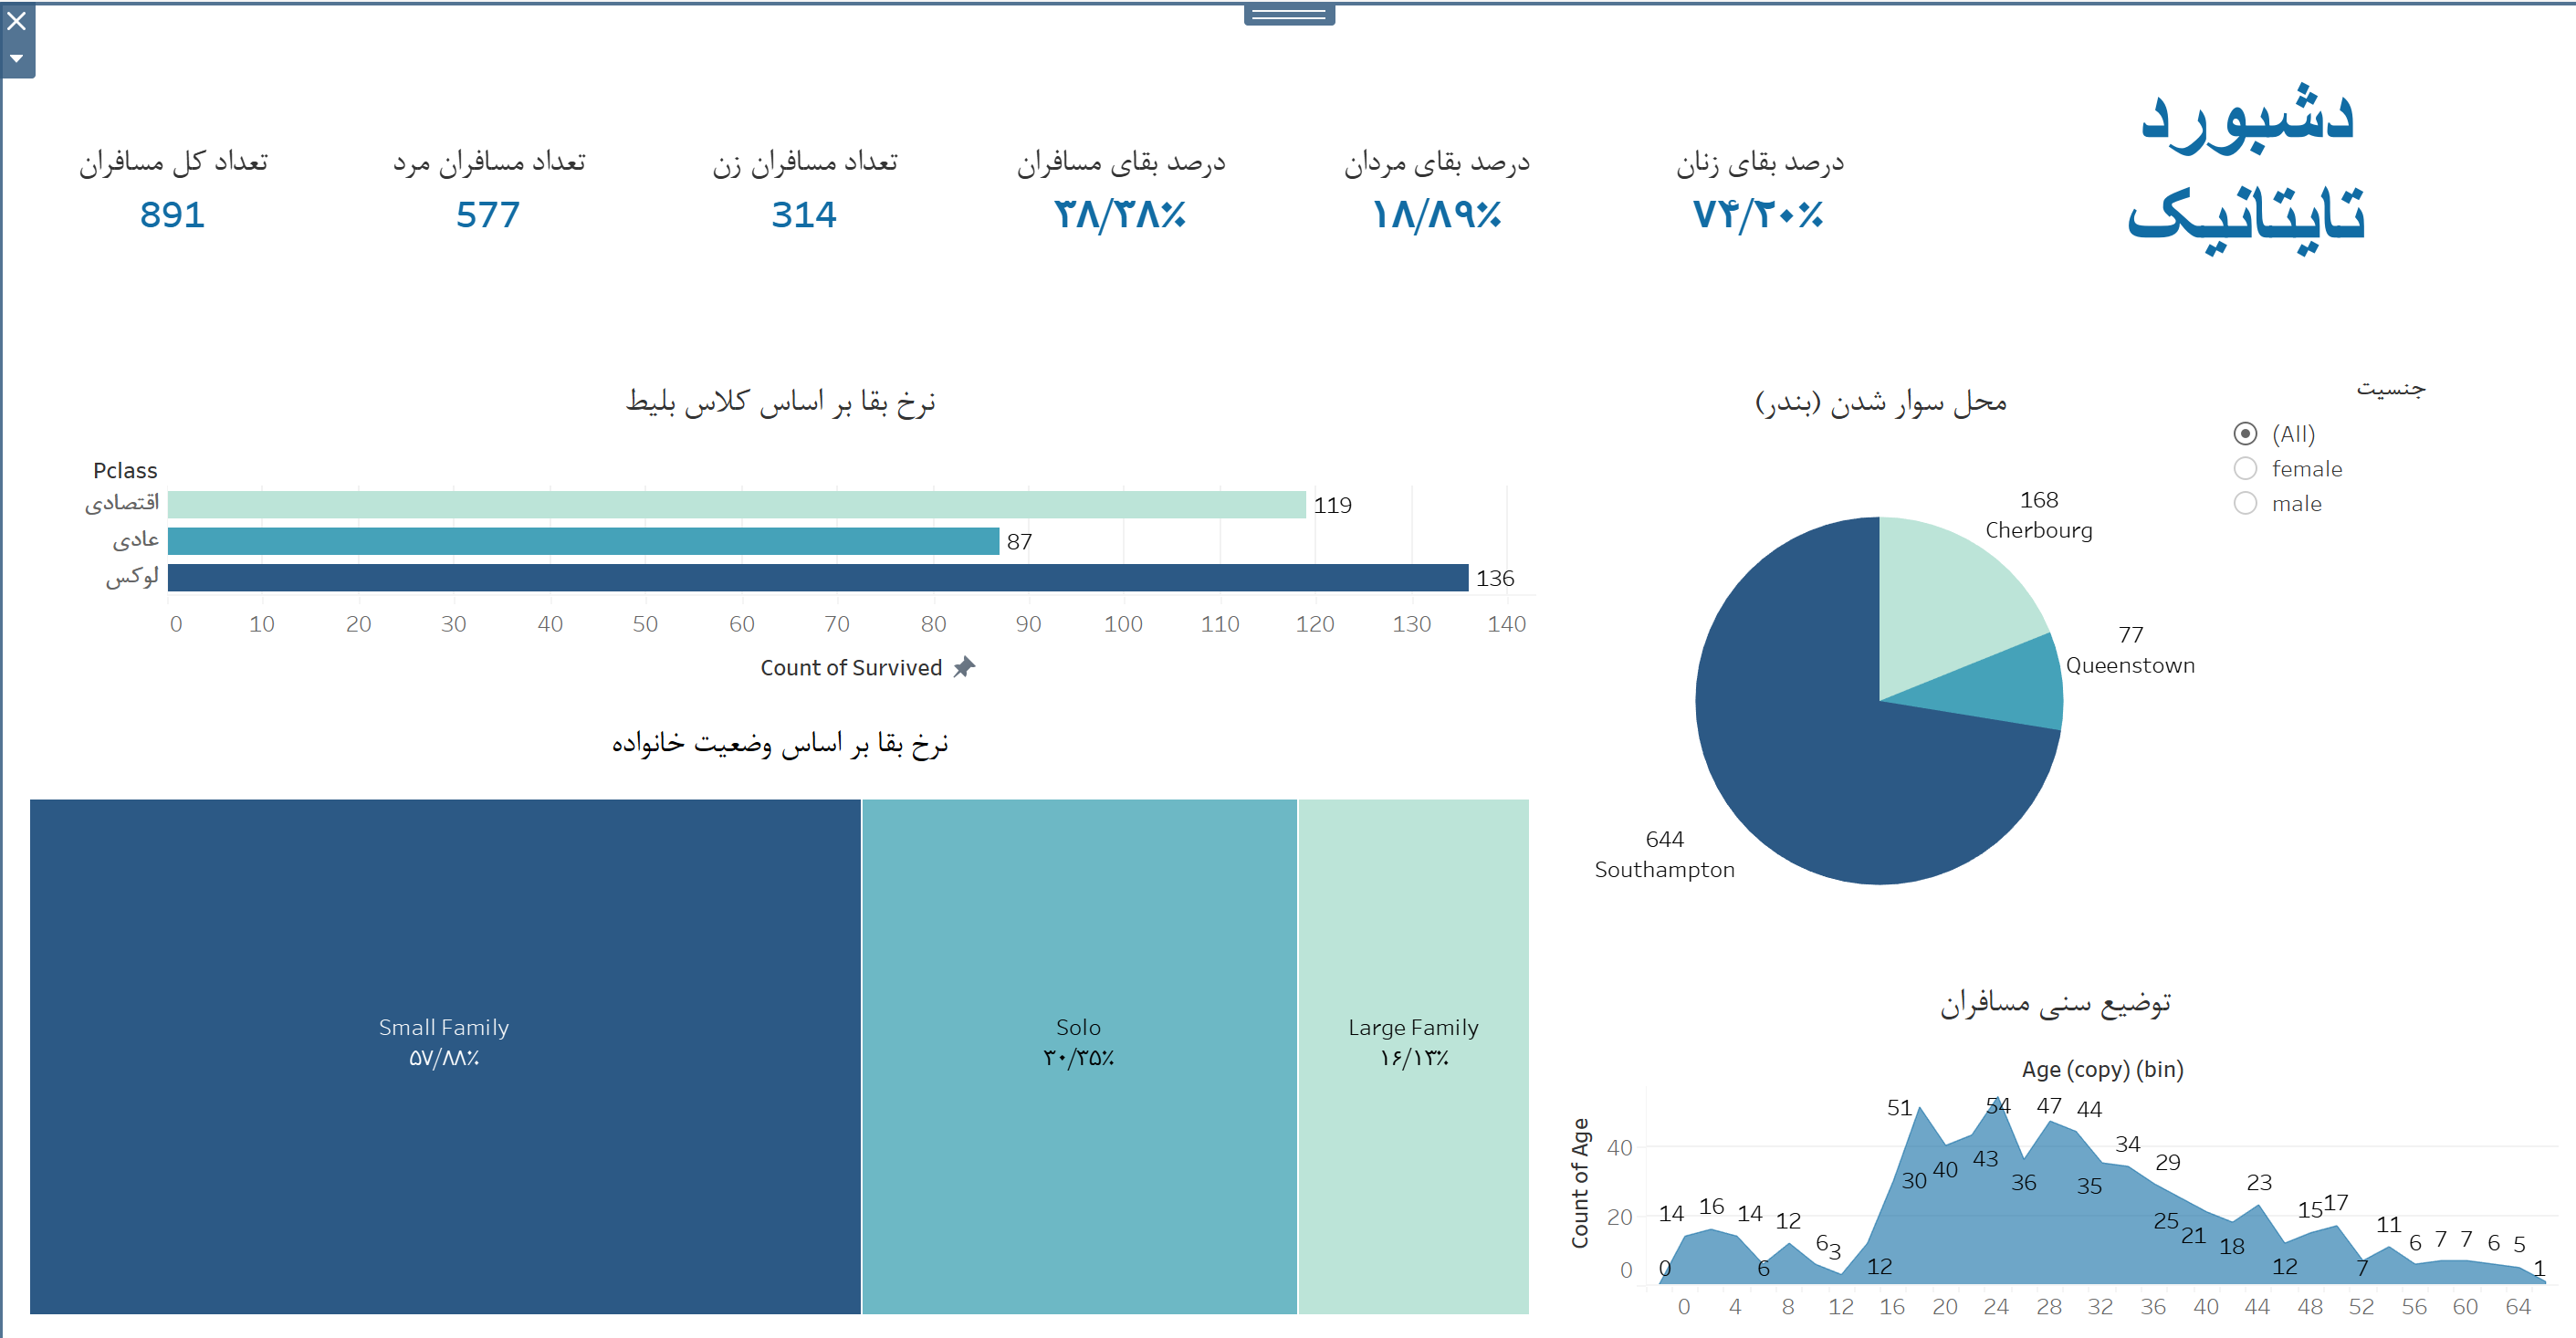

The page's visual inventory and layout, read from the dashboard file:
{"tool":"tableau","page":{"name":"Dashboard 1","canvas":[1000,1000],"units":"permille","ordinal":0},"visuals":[{"type":"worksheet","title":"AllPass","mark":"Automatic","box":[5.7,8.3,122.3,256.2]},{"type":"worksheet","title":"MalePass","mark":"Automatic","box":[128,8.3,122.3,256.2]},{"type":"worksheet","title":"FemalePass","mark":"Automatic","box":[250.3,8.3,122.3,256.2]},{"type":"worksheet","title":"AllSurvive","mark":"Automatic","box":[372.6,8.3,122.3,256.2]},{"type":"worksheet","title":"MaleSurvive","mark":"Automatic","box":[494.9,8.3,122.3,256.2]},{"type":"worksheet","title":"FemaleSurvive","mark":"Automatic","box":[617.3,8.3,128.8,256.2]},{"type":"text","box":[746.1,8.3,248.2,256.2]},{"type":"worksheet","title":"Pclass","mark":"Automatic","rows":["Pclass"],"cols":["Survived"],"box":[5.7,264.6,592.9,195.8]},{"type":"worksheet","title":"Origin","mark":"Pie","box":[598.6,264.6,258.4,342.7]},{"type":"filter","title":"AllPass","param":"[federated.19uz6801ohv3iy1113qc90dty9h9].[none:Sex:nk]","box":[856.9,264.6,137.3,342.7]},{"type":"worksheet","title":"FamilyStatus","mark":"Automatic","box":[5.7,460.4,592.9,531.3]},{"type":"worksheet","title":"PassAge","mark":"Area","rows":["Age"],"cols":["Age (copy) (bin)"],"box":[598.6,607.3,395.7,384.4]}]}

Visuals, with their boxes on the dashboard's canvas, which has no fixed pixel size, in thousandths of its width and height (x1, y1, x2, y2). These are canvas units, not pixel positions in the 2576x1338 screenshot, which may show the page scaled, cropped or inside an application window:
"AllPass" worksheet: box(6, 8, 128, 264)
"MalePass" worksheet: box(128, 8, 250, 264)
"FemalePass" worksheet: box(250, 8, 373, 264)
"AllSurvive" worksheet: box(373, 8, 495, 264)
"MaleSurvive" worksheet: box(495, 8, 617, 264)
"FemaleSurvive" worksheet: box(617, 8, 746, 264)
text: box(746, 8, 994, 264)
"Pclass" worksheet: box(6, 265, 599, 460)
"Origin" worksheet (Pie marks): box(599, 265, 857, 607)
"AllPass" filter: box(857, 265, 994, 607)
"FamilyStatus" worksheet: box(6, 460, 599, 992)
"PassAge" worksheet (Area marks): box(599, 607, 994, 992)
